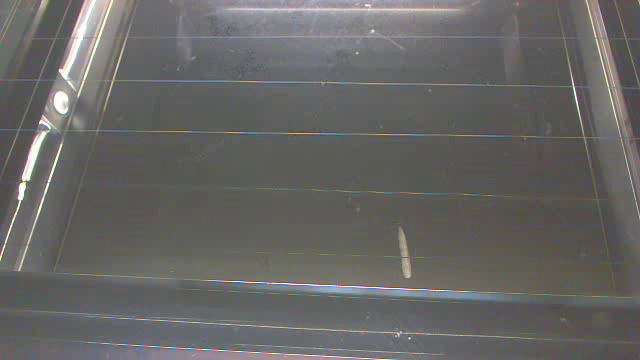alpha: (393, 220, 414, 280)
